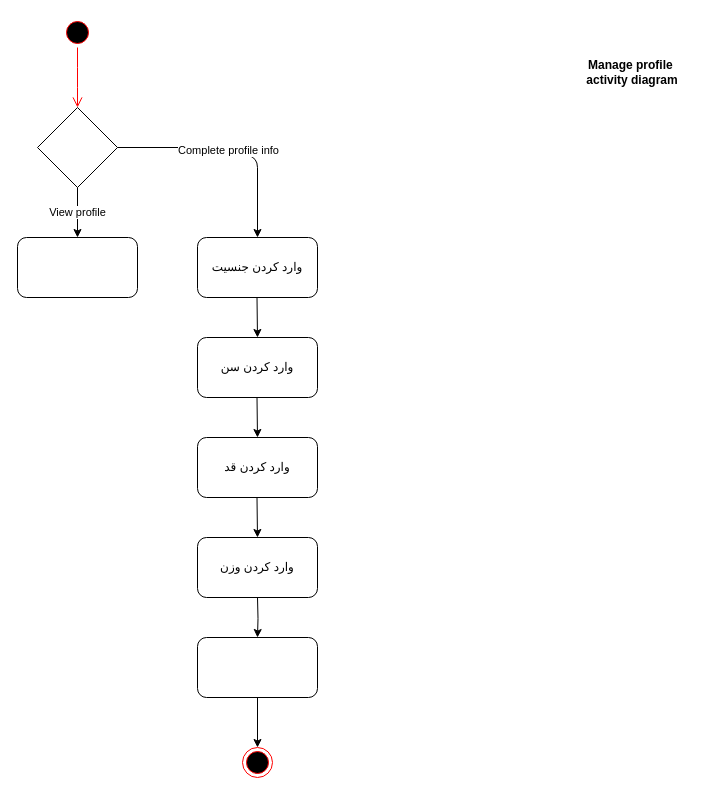
This 715x795 diagram has some shape labels left out. Here are the shapes that lost their labels. From the top down, the box of each, then its label:
(16, 236, 138, 298): نمایش اطلاعات کاربری و نمودار BMI
(196, 636, 318, 698): ثبت اطلاعات در پایگاه داده
